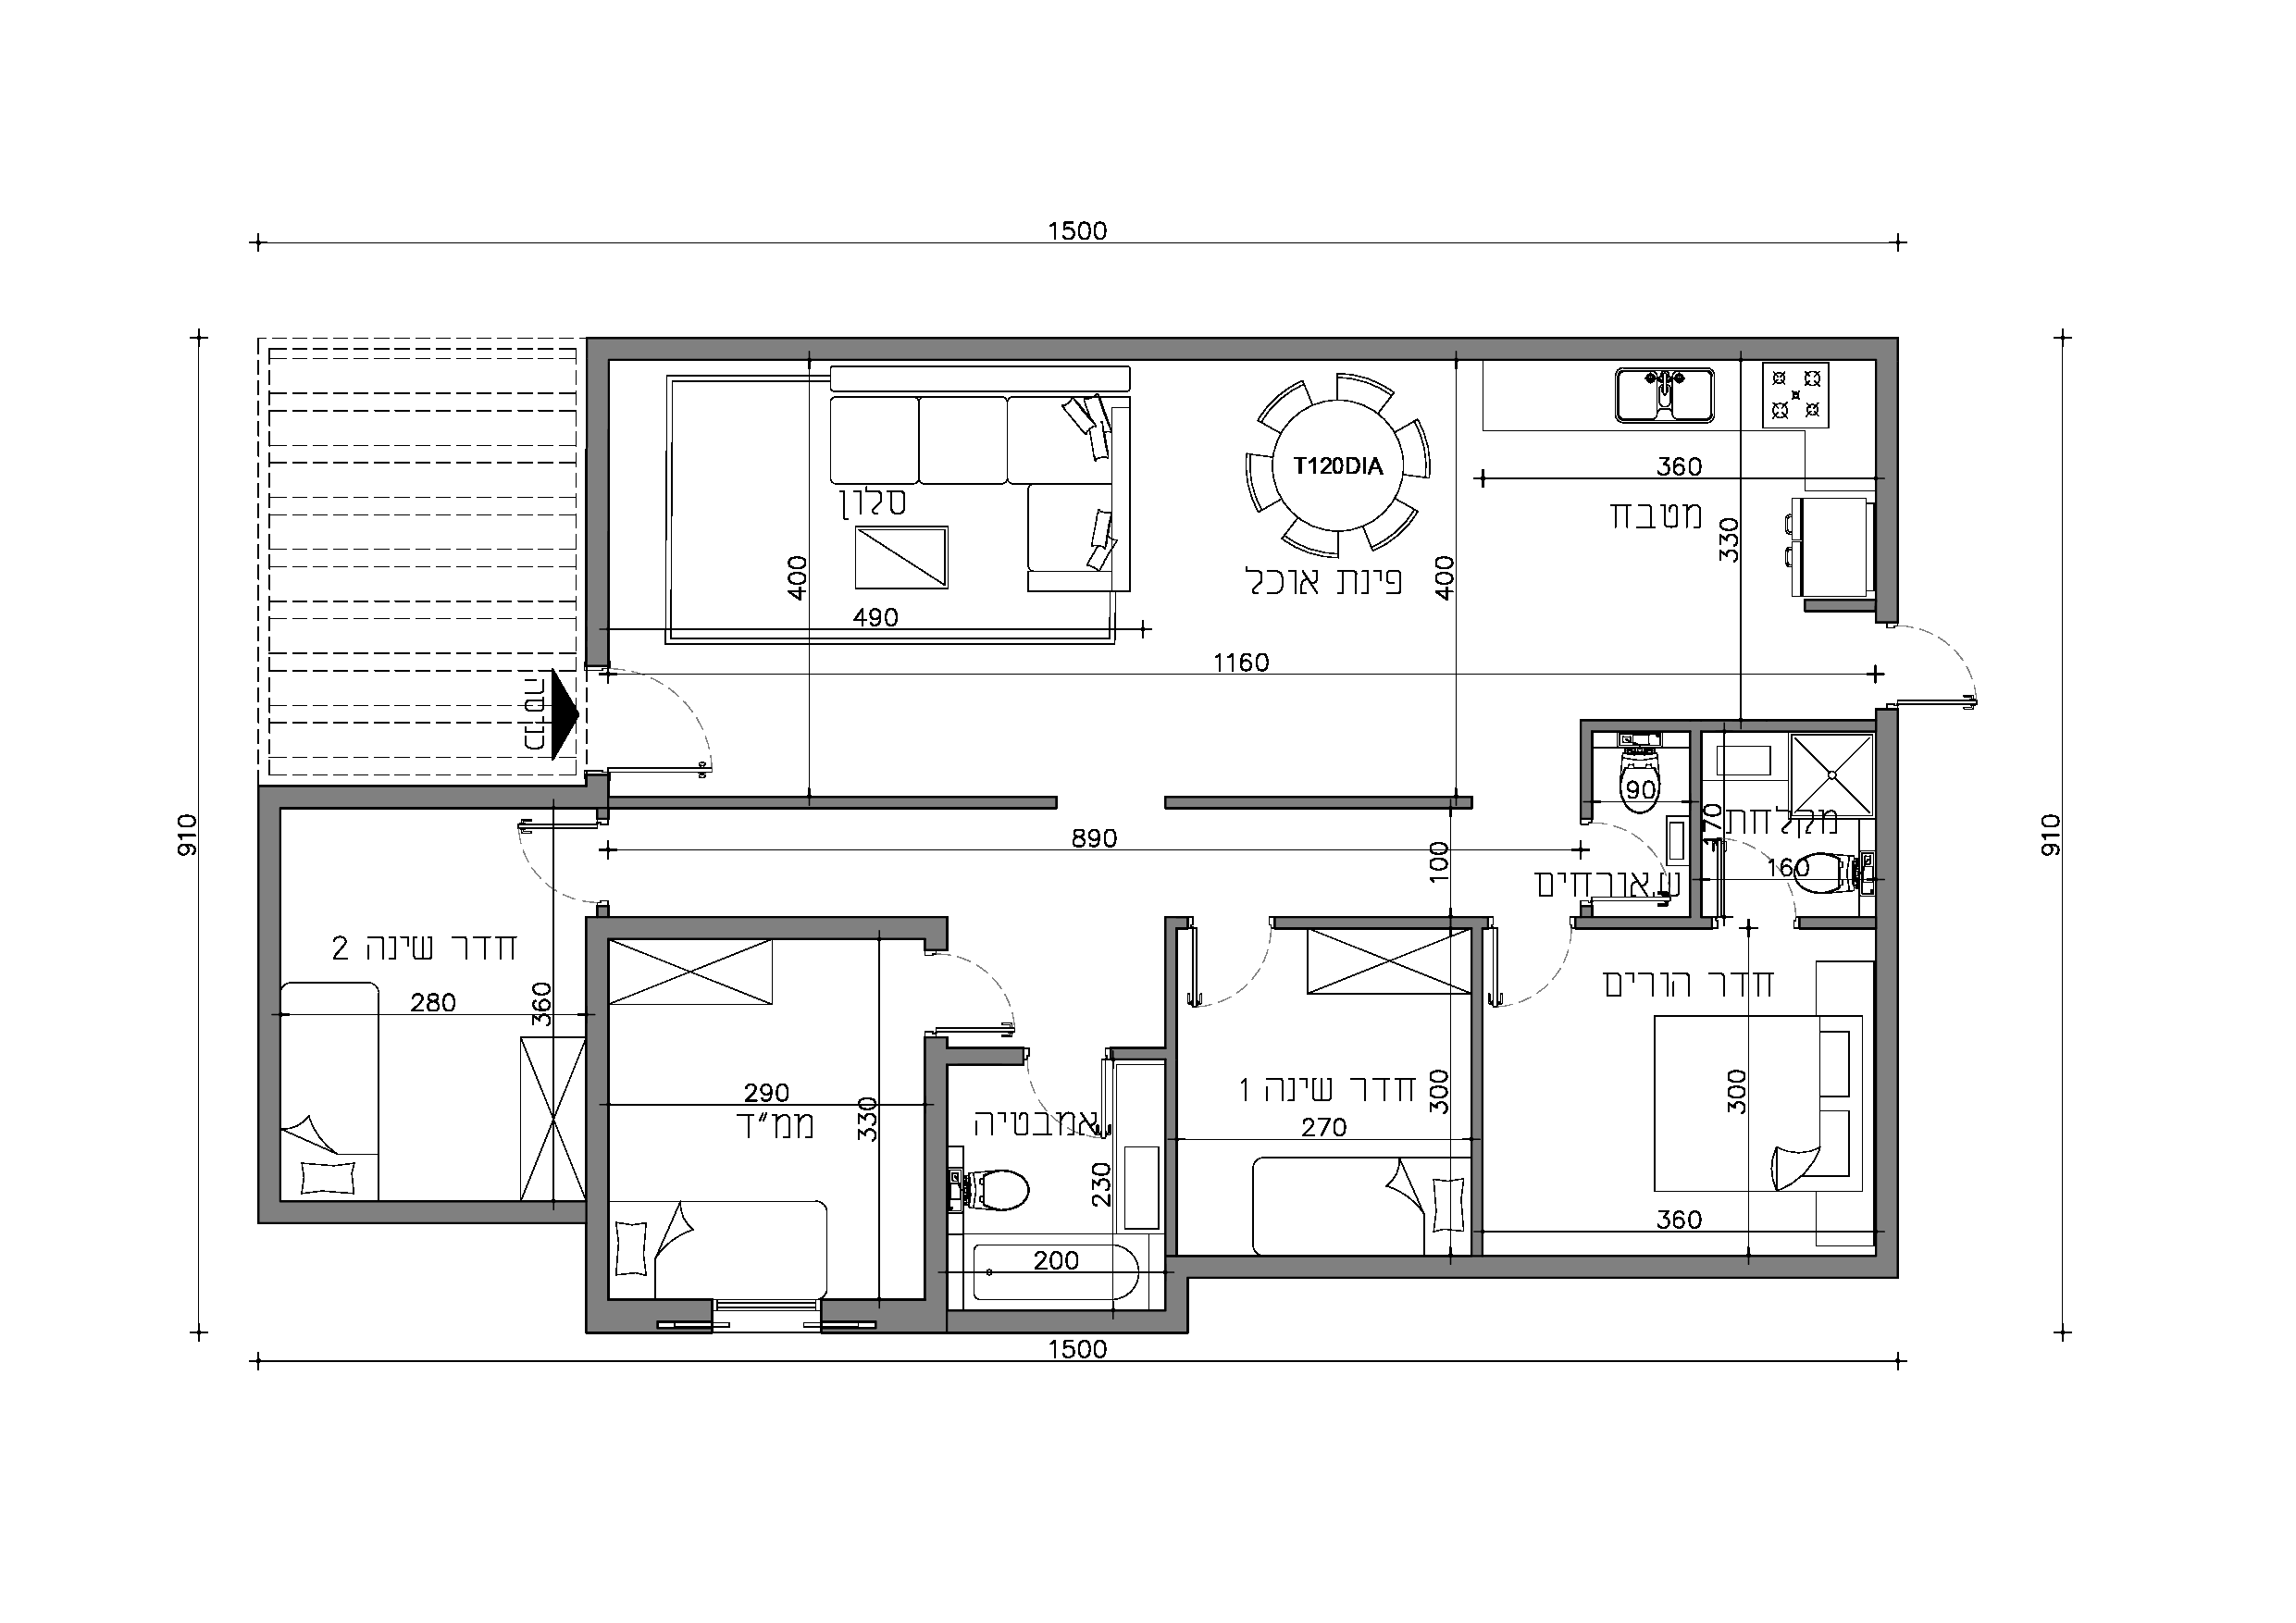room: (585, 337, 1476, 808), (1470, 917, 1899, 1280), (256, 785, 606, 1223), (585, 917, 950, 1335), (1165, 917, 1483, 1279), (924, 1045, 1177, 1335), (1688, 718, 1897, 929)
